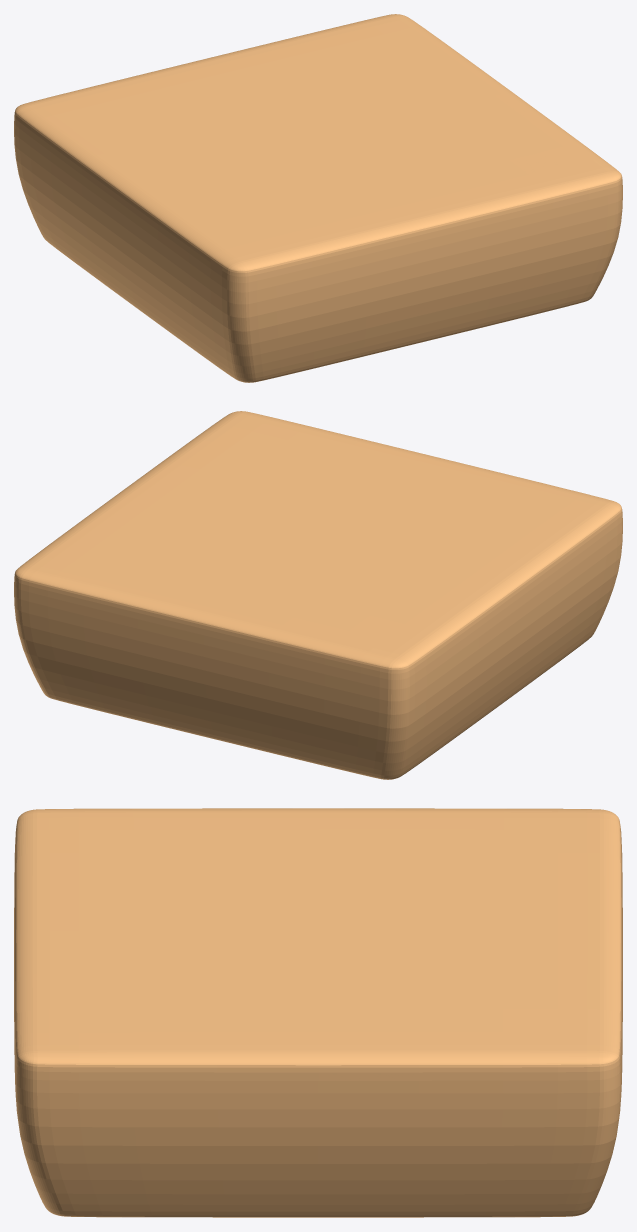
The model's file is BasicTile.fbx.
3 renders of one model, top to bottom at view 1: azimuth 30°, elevation 25°; view 2: azimuth 150°, elevation 25°; view 3: azimuth 270°, elevation 25°, orthographic. The views are drawn at different scales.
Parts seen in each view (by area): view 1: Cube; view 2: Cube; view 3: Cube.
Boxes of the visible parts, x1,y1,x2,y2 form: Cube: (14,14,622,382); Cube: (14,411,622,779); Cube: (14,808,622,1217).
Bounding box in the file's own units: 99.89 × 31.98 × 99.89.
